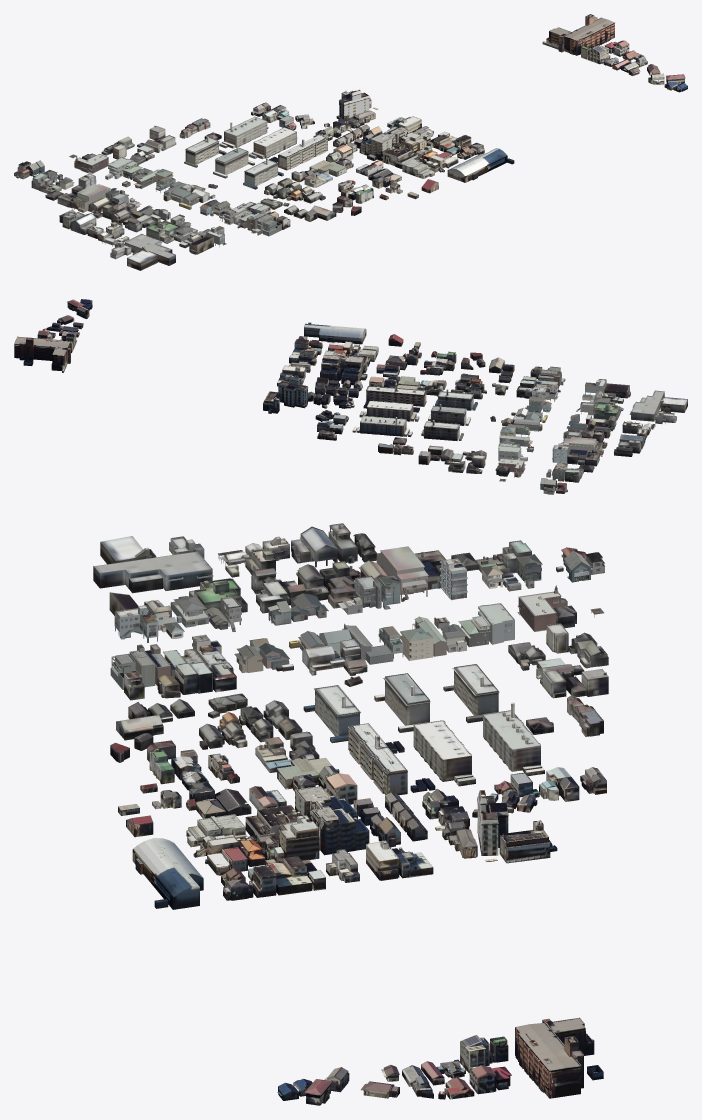
The model's file is 2023-lod3-station-2-1-packed.glb.
3 renders of one model, top to bottom at view 1: azimuth 30°, elevation 25°; view 2: azimuth 150°, elevation 25°; view 3: azimuth 270°, elevation 25°, orthographic. The views are drawn at different scales.
Size of the model in its own units: 620 by 27.3 by 239.
Materials: 15 (13 with a texture image).
